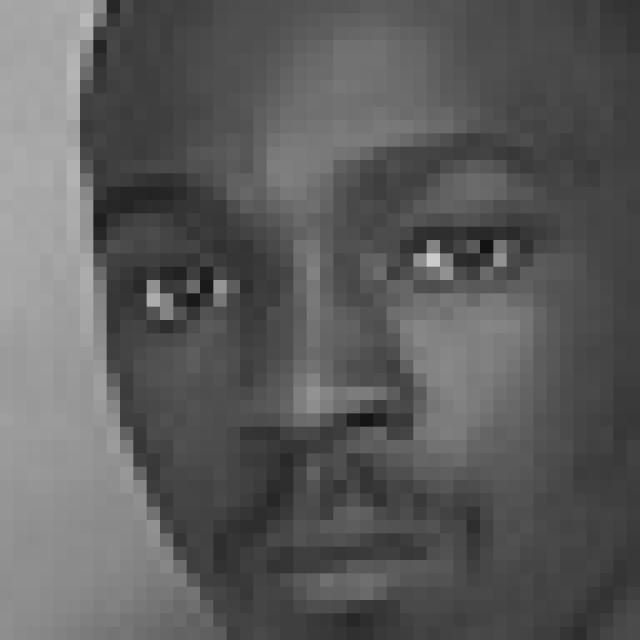neutral: (100, 116, 574, 629)
